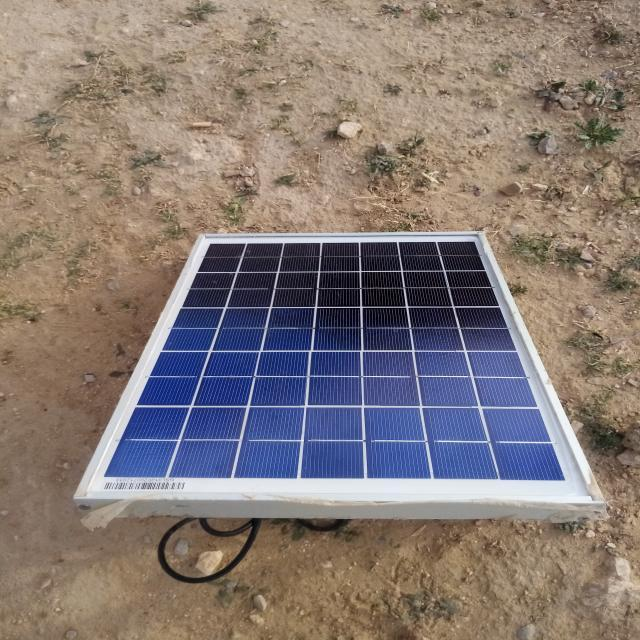no faulty: (77, 232, 604, 500)
